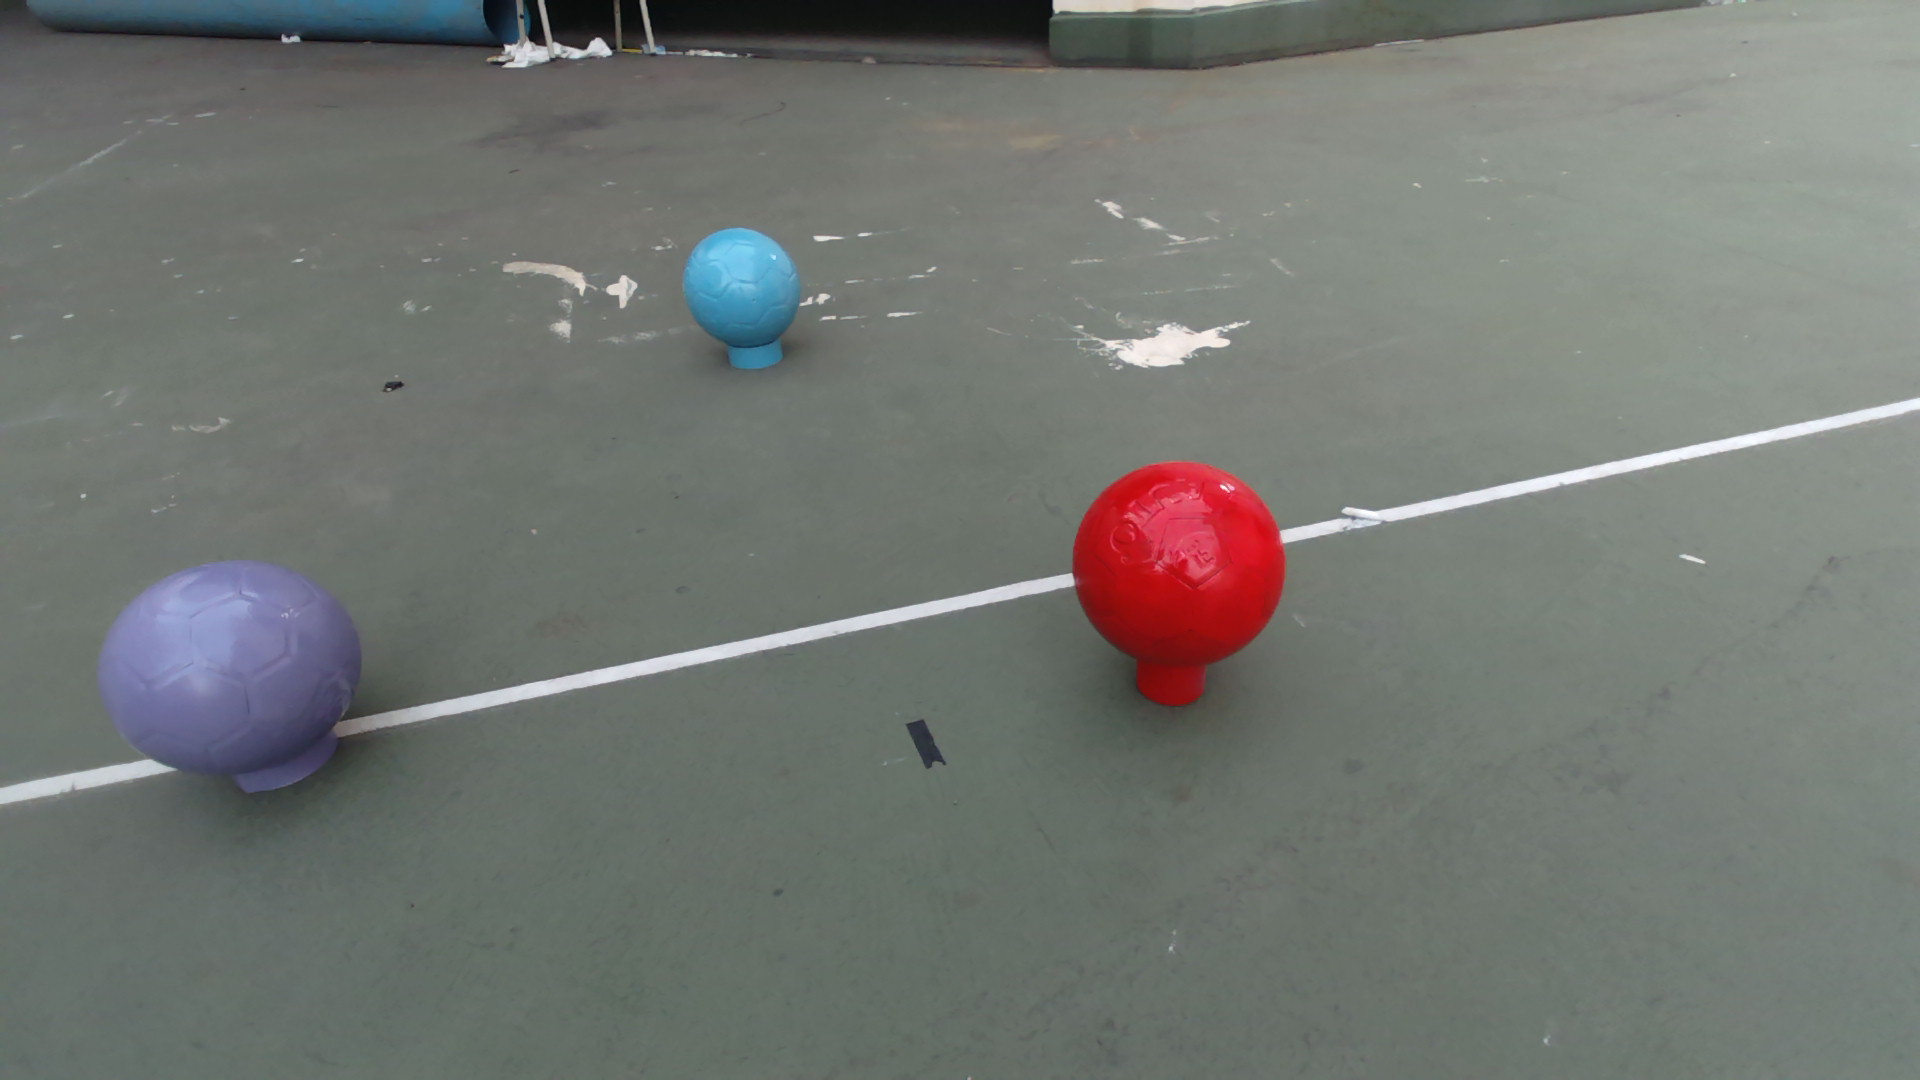Blue ball: (680, 224, 802, 348)
Purple ball: (94, 556, 367, 781)
Red ball: (1069, 459, 1288, 669)
